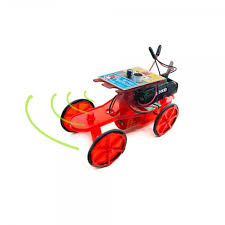bird: (146, 46, 173, 78), (148, 43, 167, 69)
frisbee: (24, 89, 100, 156), (56, 94, 102, 131)
kite: (28, 79, 161, 173)
motorcycle: (55, 51, 178, 168), (81, 49, 179, 120)
surfboard: (92, 64, 168, 91)
